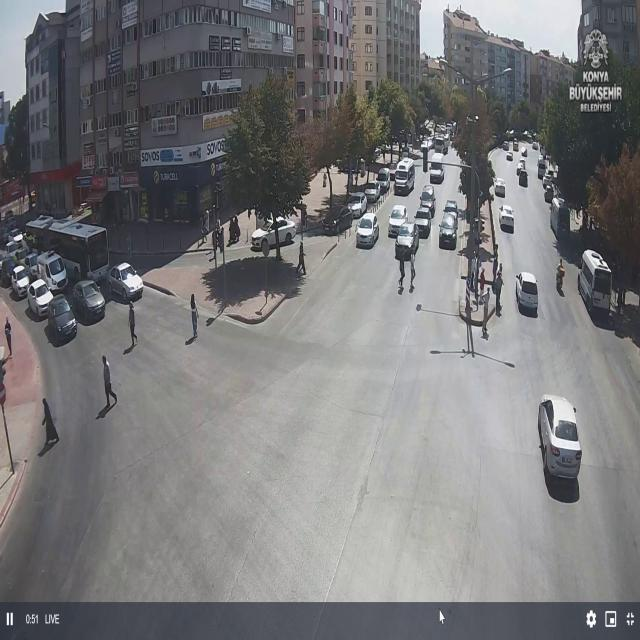Bus: (25, 215, 110, 279)
Car: (536, 394, 582, 476), (250, 215, 296, 252), (46, 295, 77, 343), (72, 280, 106, 323), (108, 262, 144, 301), (27, 278, 54, 316), (394, 223, 420, 257), (516, 272, 538, 312), (323, 206, 354, 234), (10, 265, 33, 299), (356, 213, 378, 247), (438, 211, 459, 245), (388, 205, 409, 237), (346, 192, 368, 218), (413, 207, 432, 235), (419, 185, 436, 214), (498, 205, 514, 232), (375, 168, 391, 194), (364, 181, 382, 203), (442, 199, 458, 218), (493, 178, 506, 195)
Van: (578, 251, 612, 311), (551, 197, 572, 237), (393, 157, 414, 191), (429, 153, 445, 182)
